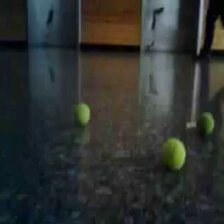tennis: (159, 137, 187, 171), (196, 111, 216, 135), (72, 103, 91, 126)
